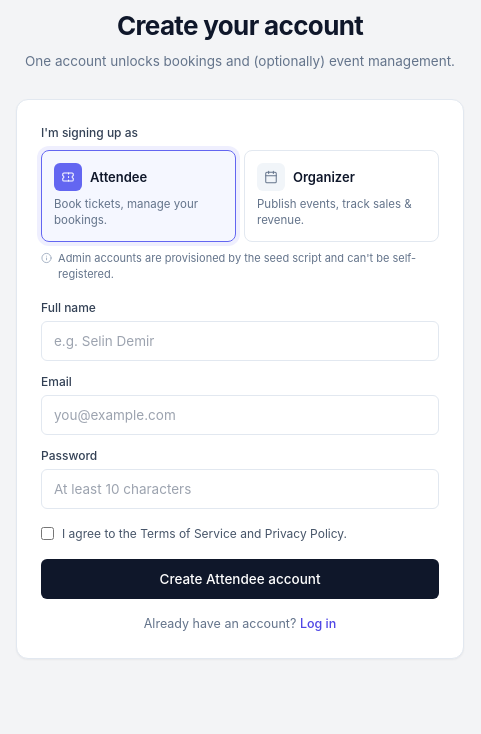
Test: RegisterPage › surfaces field-level validation errors from a 400 response
Step 1. Type "Selin Demir" into the field labelled "Full name" → [240, 341], box [41,321,439,361]
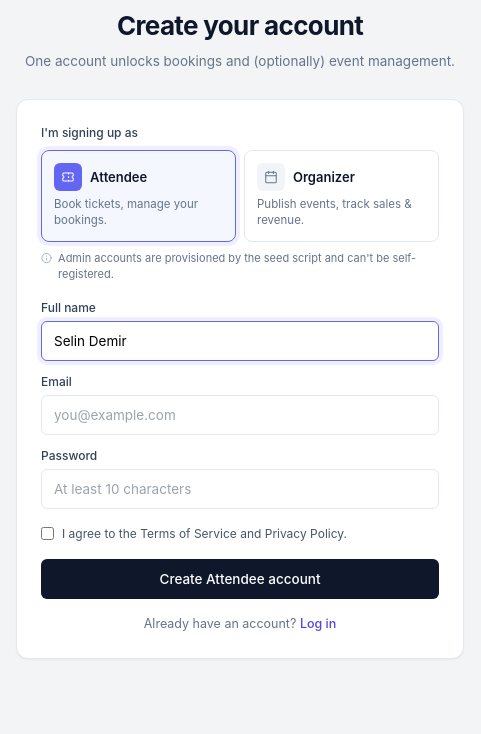
Step 2. Type "selin@example.com" into the field labelled "Email" → [240, 415], box [41,395,439,435]
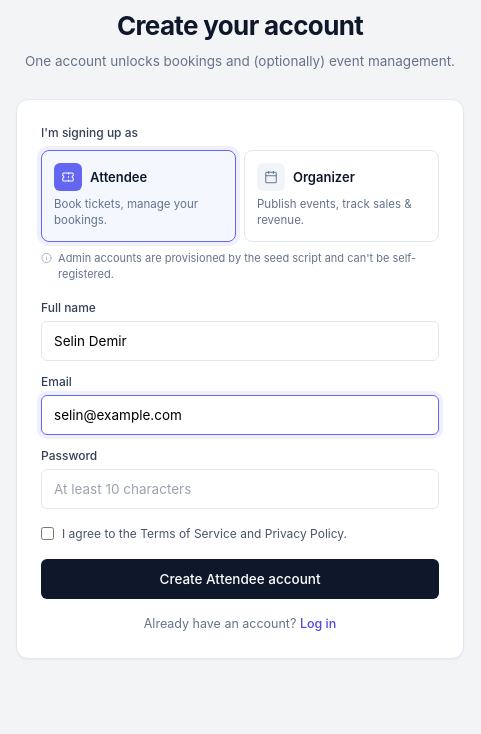
Step 3. Type "super-strong-pw" into the password field labelled "Password" → [240, 489], box [41,469,439,509]
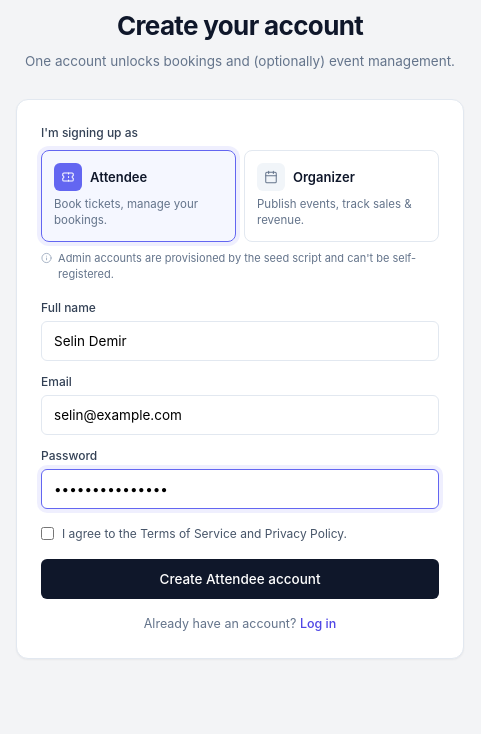
Step 4. Click the checkbox labelled "I agree to the Terms of Service and Privacy Policy." → [48, 533], box [41,527,54,540]
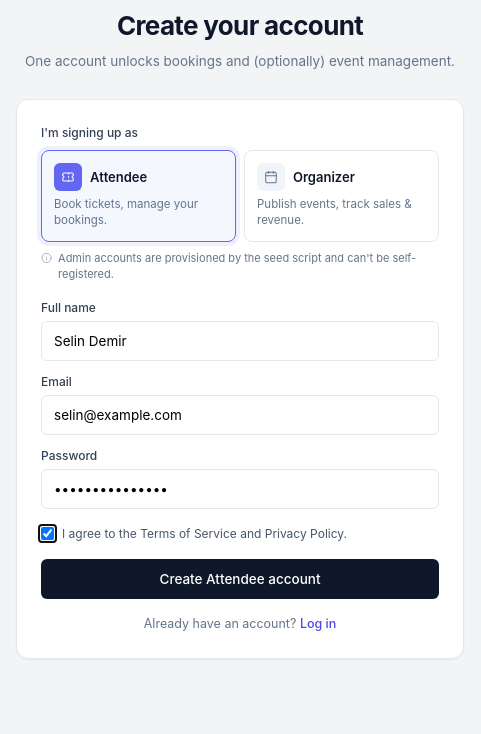
Step 5. Click the button "Create Attendee account" → [240, 579], box [41,559,439,599]
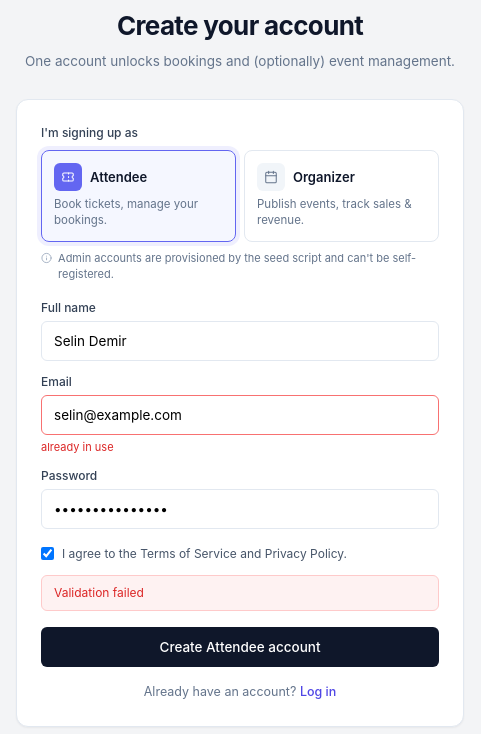
expect the text "already in use" is shown: met, box [41,440,114,454]
